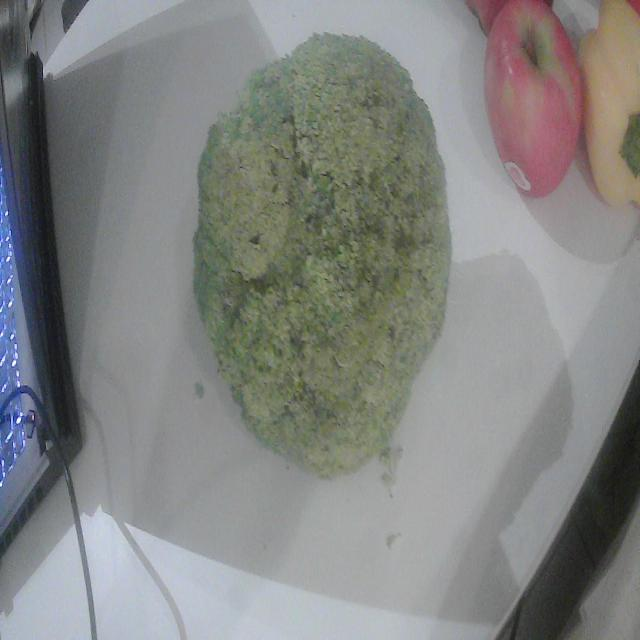Apple: (484, 0, 582, 196)
Bell Pepper: (579, 0, 640, 205)
Broccoli: (193, 35, 451, 476)
